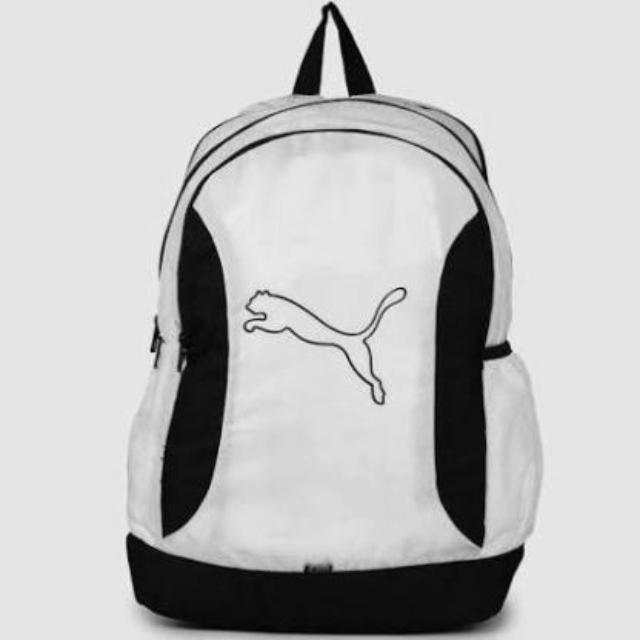PUMA_original: (240, 260, 410, 410)
